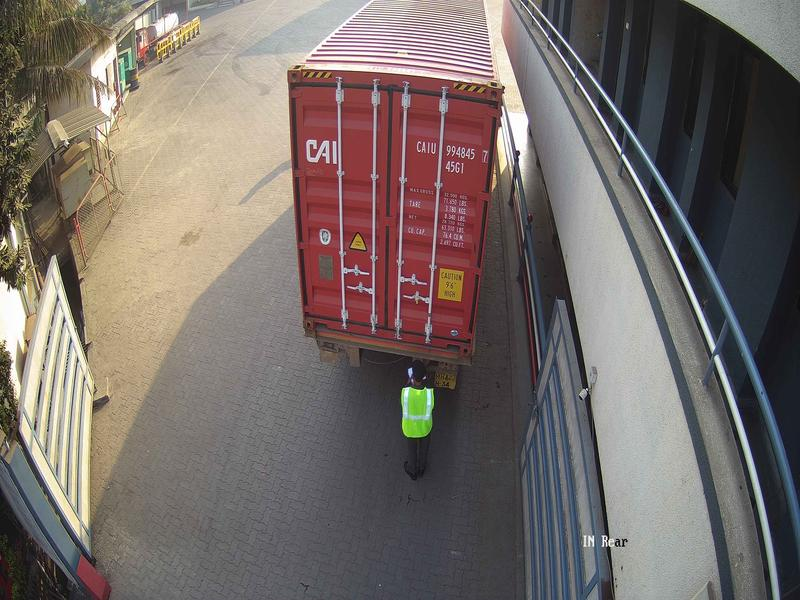container: (277, 56, 498, 366)
